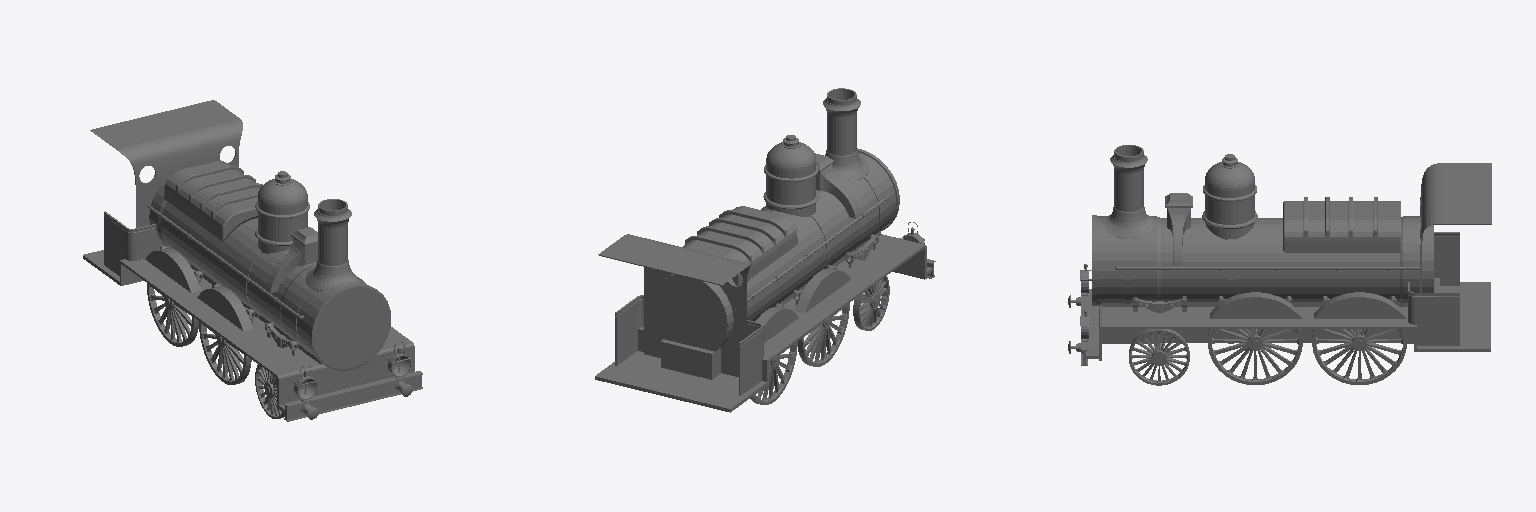
The model's file is train2.obj.
3 renders of one model, left to right at view 1: azimuth 30°, elevation 25°; view 2: azimuth 150°, elevation 25°; view 3: azimuth 270°, elevation 25°, orthographic.
Parts seen in each view (by area): view 1: g Boiler_Boiler, g Boiler Base_Boiler Base, g Boiler Cab_Boiler Cab, g Boiler Cab F_Bigwheel_Boiler Cab F_Bigwheel, g Boiler Cab B_Bigwheel_Boiler Cab B_Bigwheel, g Boiler Cab F_Smallwheel_Boiler Cab F_Smallwheel; view 2: g Boiler_Boiler, g Boiler Cab_Boiler Cab, g Boiler Base_Boiler Base, g Boiler Cab F_Bigwheel_Boiler Cab F_Bigwheel, g Boiler Cab F_Smallwheel_Boiler Cab F_Smallwheel, g Boiler Cab B_Bigwheel_Boiler Cab B_Bigwheel; view 3: g Boiler_Boiler, g Boiler Cab_Boiler Cab, g Boiler Base_Boiler Base, g Boiler Cab F_Bigwheel_Boiler Cab F_Bigwheel, g Boiler Cab B_Bigwheel_Boiler Cab B_Bigwheel, g Boiler Cab F_Smallwheel_Boiler Cab F_Smallwheel.
Boxes of the visible parts, <box> form: g Boiler_Boiler: <box>149,161,390,370</box>; g Boiler Base_Boiler Base: <box>83,205,422,421</box>; g Boiler Cab_Boiler Cab: <box>90,100,252,330</box>; g Boiler Cab F_Bigwheel_Boiler Cab F_Bigwheel: <box>199,321,251,384</box>; g Boiler Cab B_Bigwheel_Boiler Cab B_Bigwheel: <box>147,283,198,346</box>; g Boiler Cab F_Smallwheel_Boiler Cab F_Smallwheel: <box>255,364,284,418</box>; g Boiler_Boiler: <box>651,88,899,379</box>; g Boiler Cab_Boiler Cab: <box>598,234,850,395</box>; g Boiler Base_Boiler Base: <box>595,196,935,412</box>; g Boiler Cab F_Bigwheel_Boiler Cab F_Bigwheel: <box>798,303,849,366</box>; g Boiler Cab F_Smallwheel_Boiler Cab F_Smallwheel: <box>853,276,889,330</box>; g Boiler Cab B_Bigwheel_Boiler Cab B_Bigwheel: <box>750,341,797,404</box>; g Boiler_Boiler: <box>1092,145,1439,343</box>; g Boiler Cab_Boiler Cab: <box>1210,163,1491,345</box>; g Boiler Base_Boiler Base: <box>1068,264,1490,365</box>; g Boiler Cab F_Bigwheel_Boiler Cab F_Bigwheel: <box>1208,329,1302,384</box>; g Boiler Cab B_Bigwheel_Boiler Cab B_Bigwheel: <box>1312,329,1406,384</box>; g Boiler Cab F_Smallwheel_Boiler Cab F_Smallwheel: <box>1129,329,1189,385</box>.
Size of the model in its own units: 13.53 by 20.16 by 36.56.